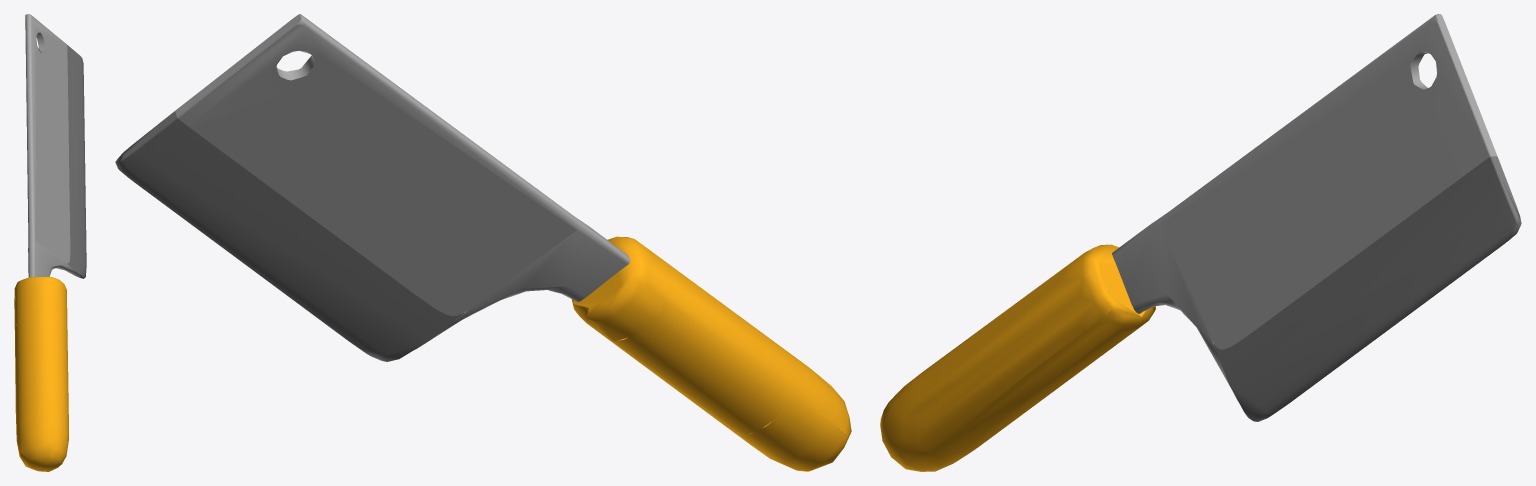
File: knife-final-2.glb
3 views of the same model, side by side, from view 1: azimuth 30°, elevation 25°; view 2: azimuth 150°, elevation 25°; view 3: azimuth 270°, elevation 25° (orthographic). The views are drawn at different scales.
Visible parts, largest first — view 1: Plane.001ss; view 2: Plane.001ss; view 3: Plane.001ss.
Part boxes in pixels (x1,y1,x2,y2): Plane.001ss: (14, 14, 86, 471); Plane.001ss: (115, 14, 851, 471); Plane.001ss: (880, 14, 1521, 471).
Size of the model in its own units: 1.86 by 2.48 by 2.54.
